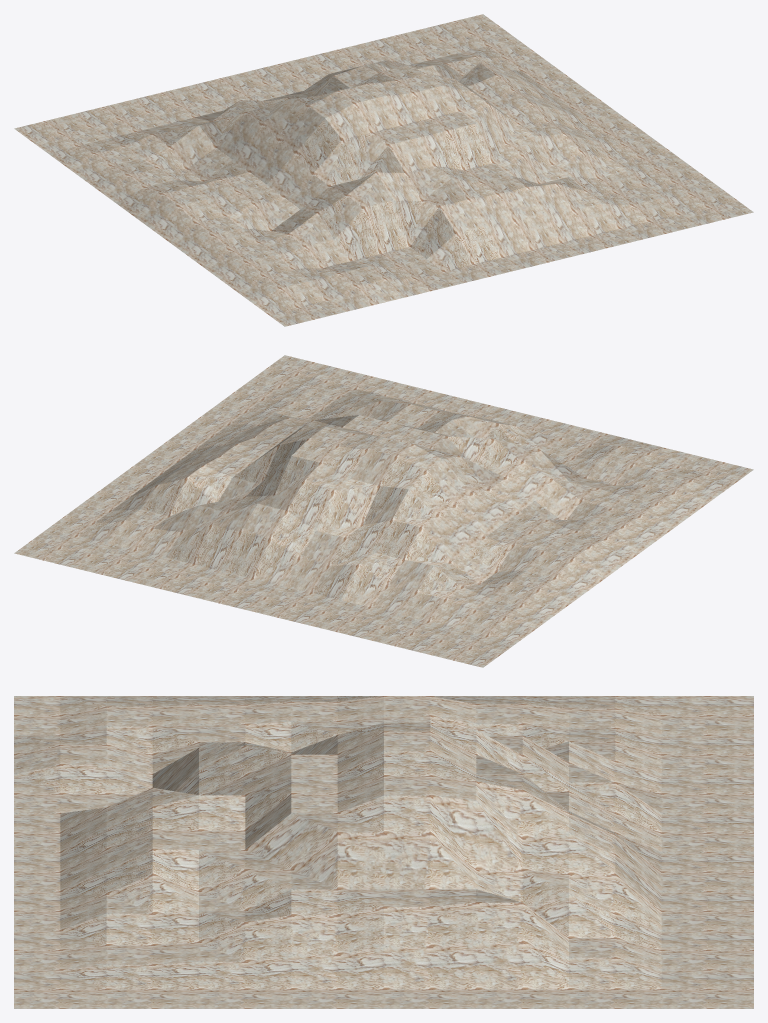
Rendered from courser9a.obj.
The picture shows the model from 3 angles, top to bottom: view 1: azimuth 30°, elevation 25°; view 2: azimuth 150°, elevation 25°; view 3: azimuth 270°, elevation 25°; orthographic projection. The views are drawn at different scales.
Visible parts, largest first — view 1: Plane; view 2: Plane; view 3: Plane.
Part boxes in pixels (x1=…): Plane: x1=14, y1=14, x2=753, y2=326; Plane: x1=14, y1=355, x2=753, y2=667; Plane: x1=14, y1=696, x2=753, y2=1008.
Size of the model in its own units: 40 by 6.04 by 40.
1 material, 1 textured.
